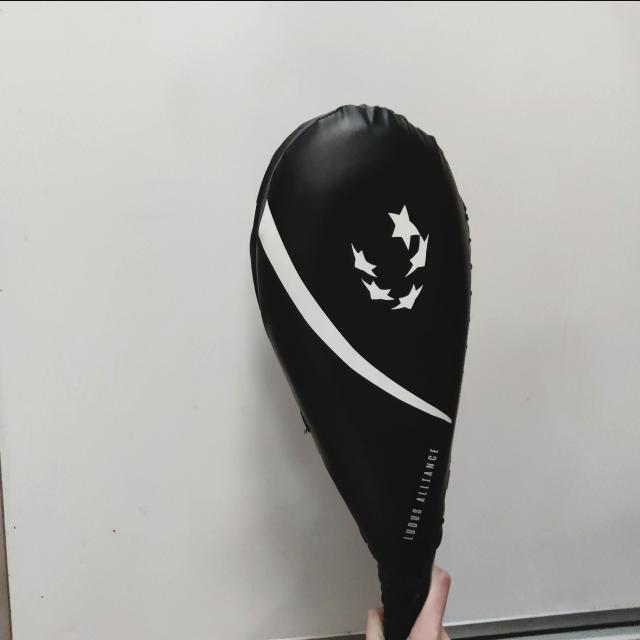paddle: (245, 98, 476, 640)
